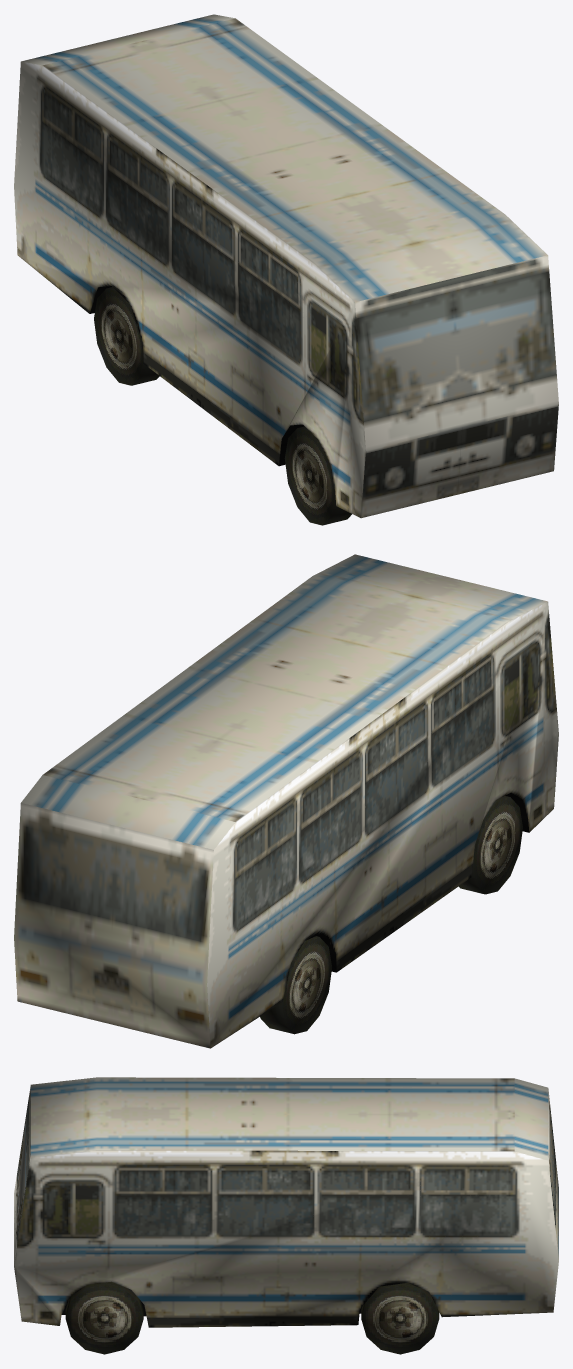
The model's file is Bus.fbx.
3 renders of one model, top to bottom at view 1: azimuth 30°, elevation 25°; view 2: azimuth 150°, elevation 25°; view 3: azimuth 270°, elevation 25°, orthographic. The views are drawn at different scales.
Visible parts, largest first — view 1: Plane; view 2: Plane; view 3: Plane.
Boxes of the visible parts, x1,y1,x2,y2 form: Plane: (14,14,558,525); Plane: (14,554,558,1048); Plane: (14,1077,558,1354).
Size of the model in its own units: 140 by 441 by 183.
2 materials, 2 textured.
